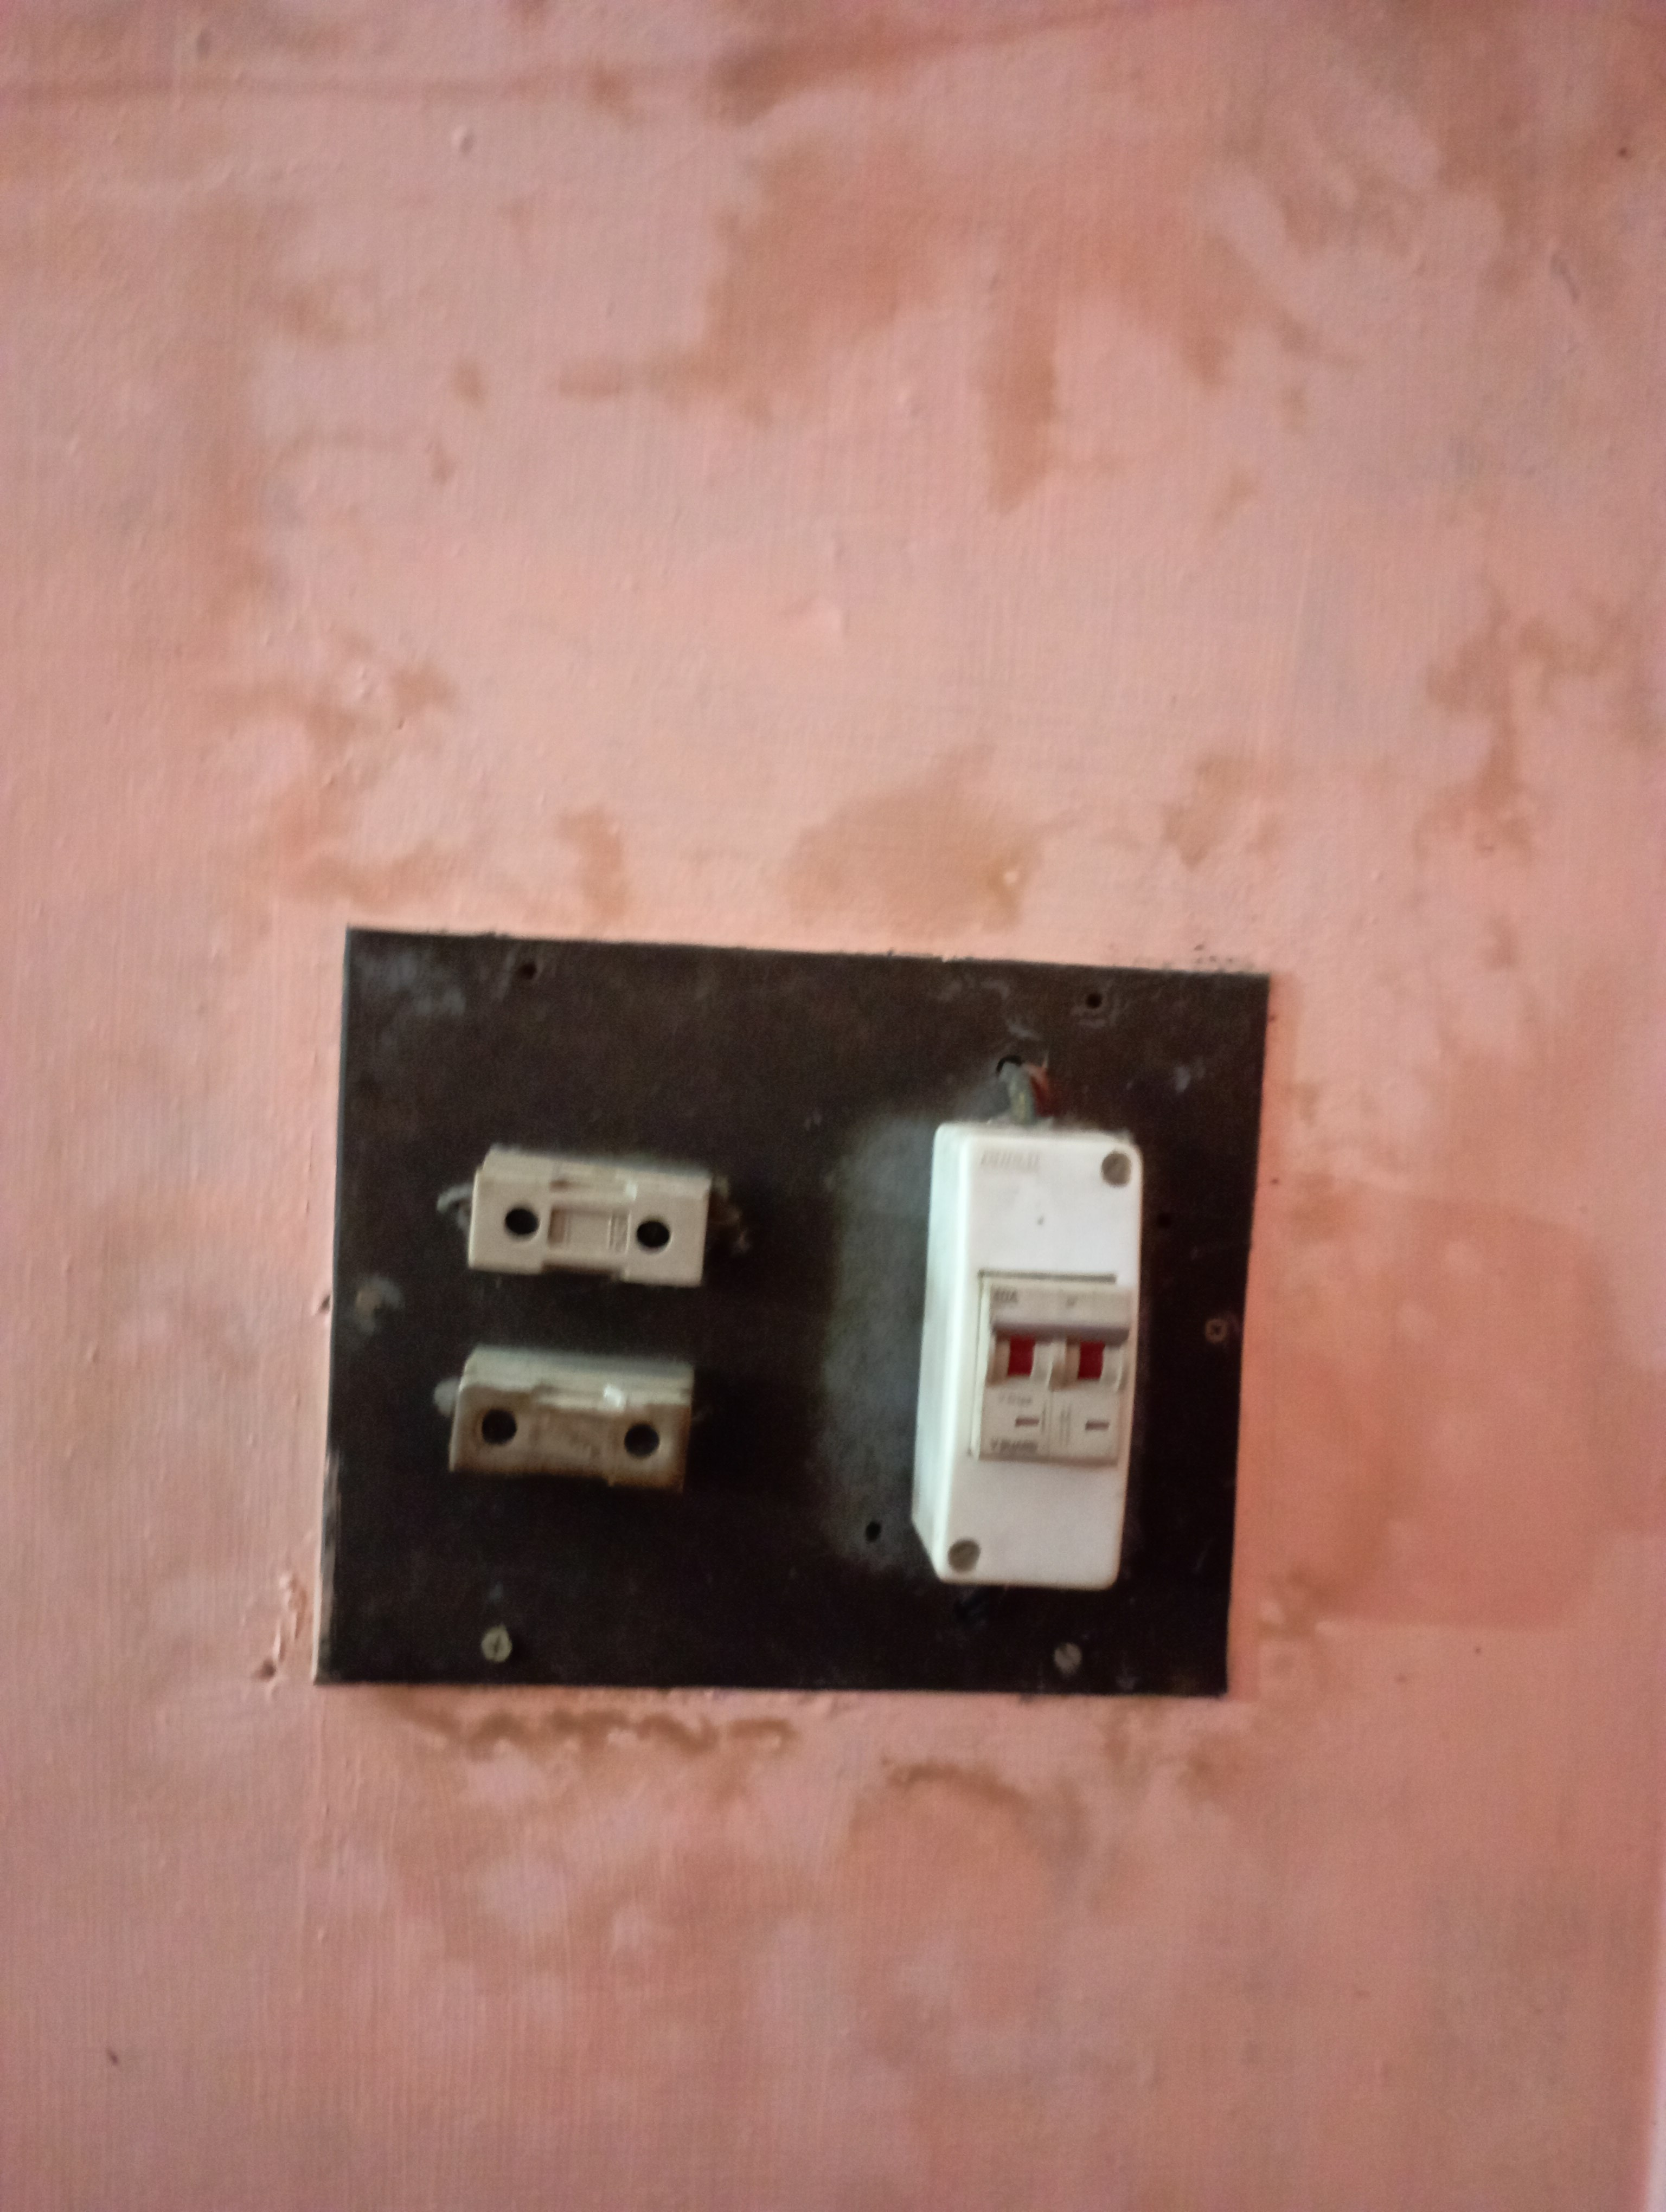ciruit_breaker: (900, 1088, 1169, 1612)
fuse: (424, 1133, 758, 1299), (450, 1339, 696, 1485)
